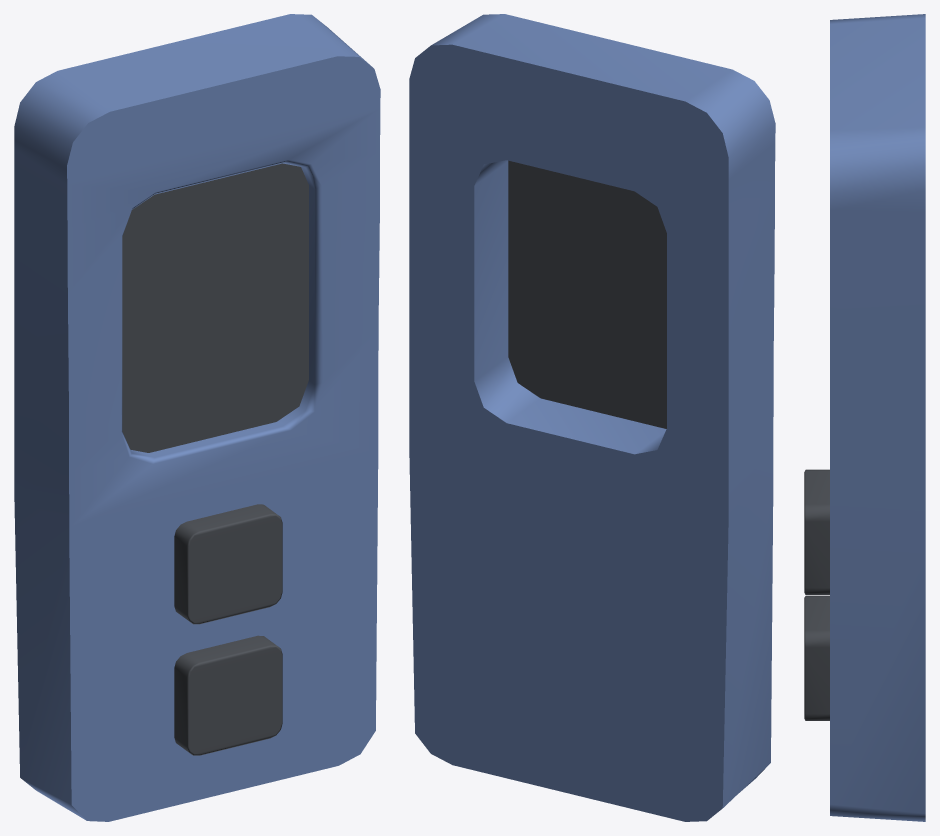
Rendered from SM_GameArea_Button_01.fbx.
3 renders of one model, left to right at view 1: azimuth 30°, elevation 25°; view 2: azimuth 150°, elevation 25°; view 3: azimuth 270°, elevation 25°, orthographic. The views are drawn at different scales.
Parts seen in each view (by area): view 1: SM_Dormitory_Button_01; view 2: SM_Dormitory_Button_01; view 3: SM_Dormitory_Button_01.
Part boxes in pixels (x1=…): SM_Dormitory_Button_01: x1=14, y1=14, x2=380, y2=821; SM_Dormitory_Button_01: x1=409, y1=14, x2=775, y2=821; SM_Dormitory_Button_01: x1=804, y1=14, x2=925, y2=821.
Bounding box in the file's own units: 1.32 × 2.85 × 0.4521.
